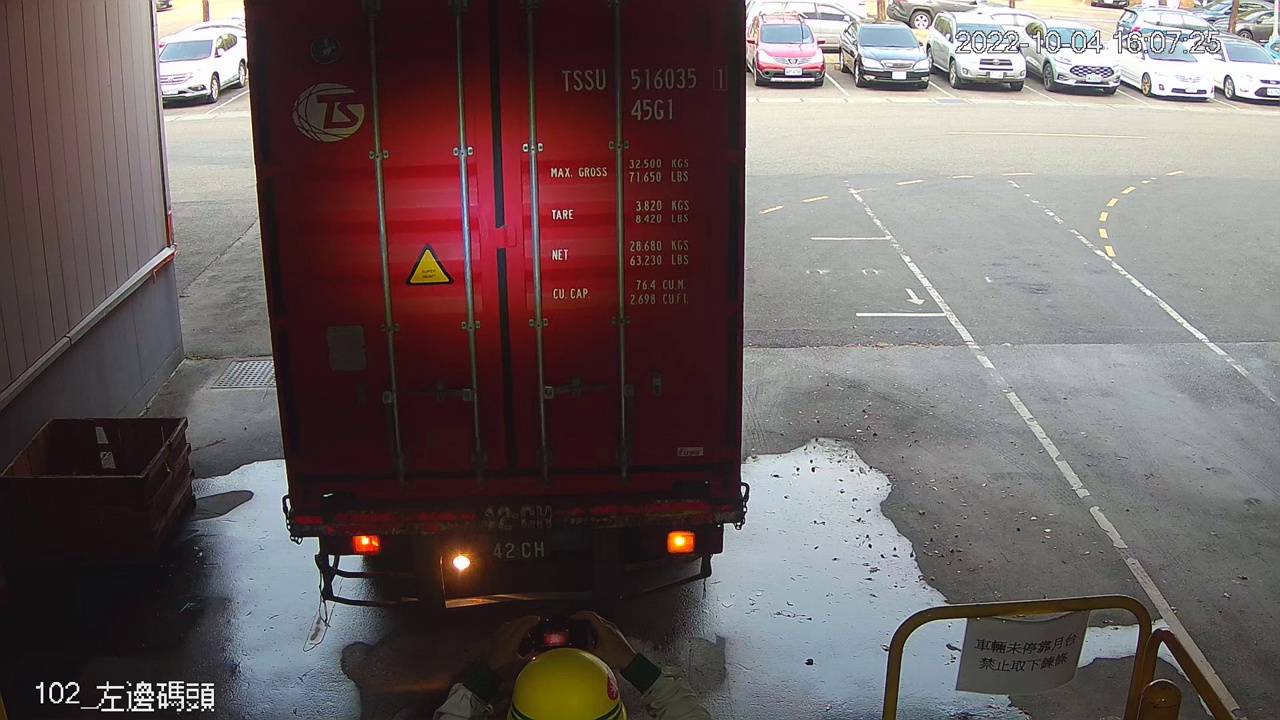container: (550, 61, 738, 130)
